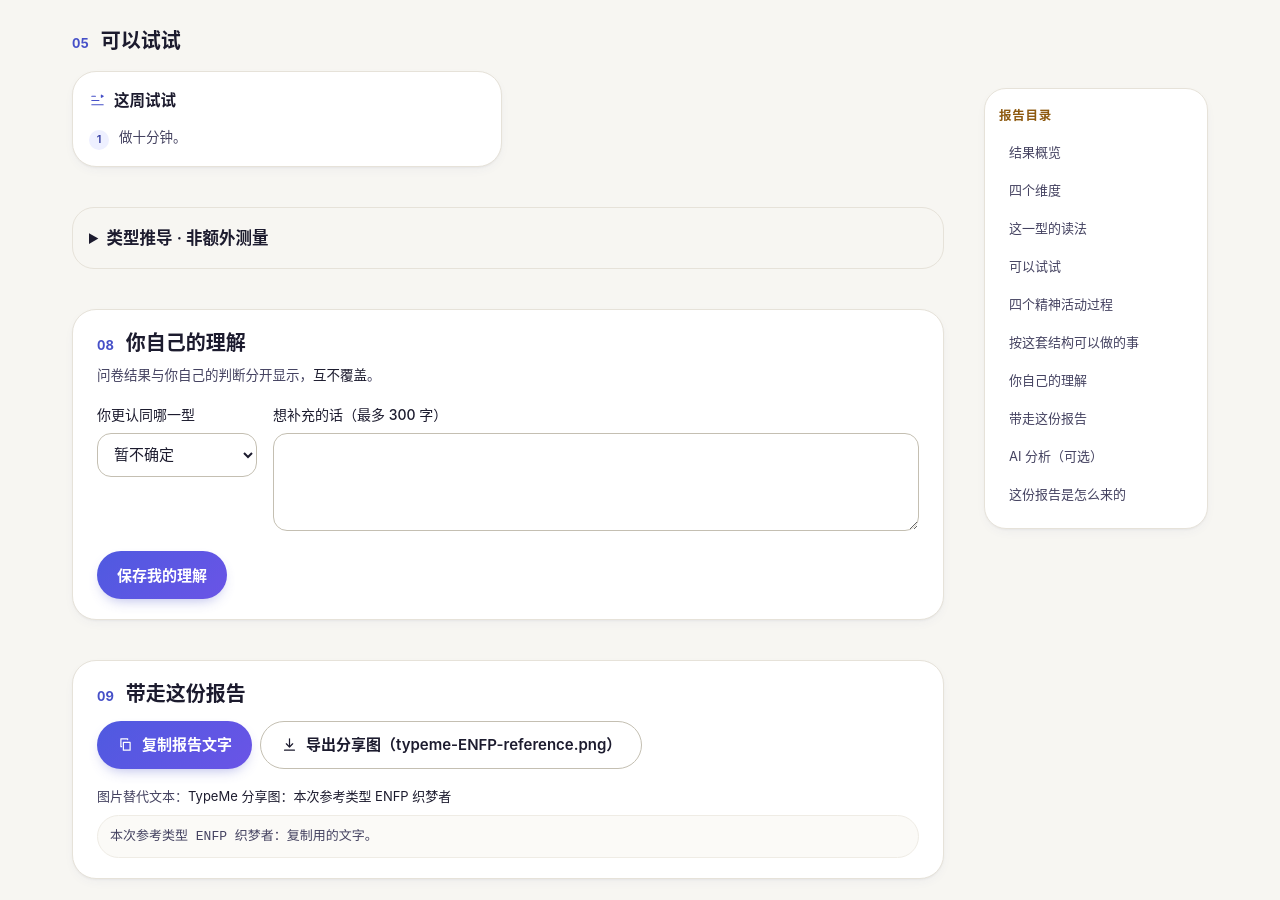
Test: 报告页：切换与离开的保存状态 › 已保存提示不带到另一份报告，离开页面清理报告状态
(page scrolled)
Type "这份报告的理解" into the text box labelled "想补充的话（最多 300 字）".
click(596, 482); type("这份报告的理解")  # box [273,433,919,531]
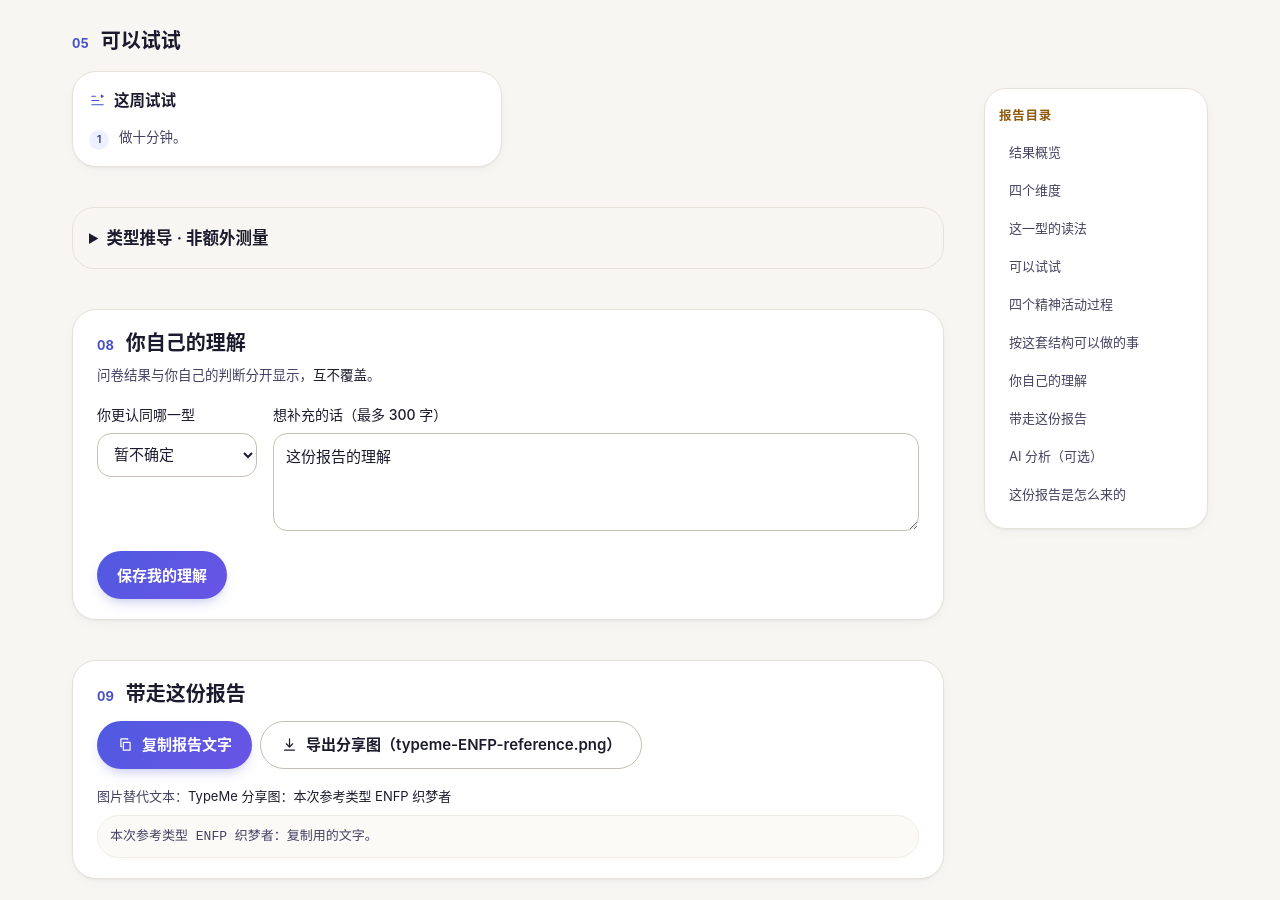
Click the button "保存我的理解".
click(162, 576)  # box [97,552,227,600]
(page scrolled)
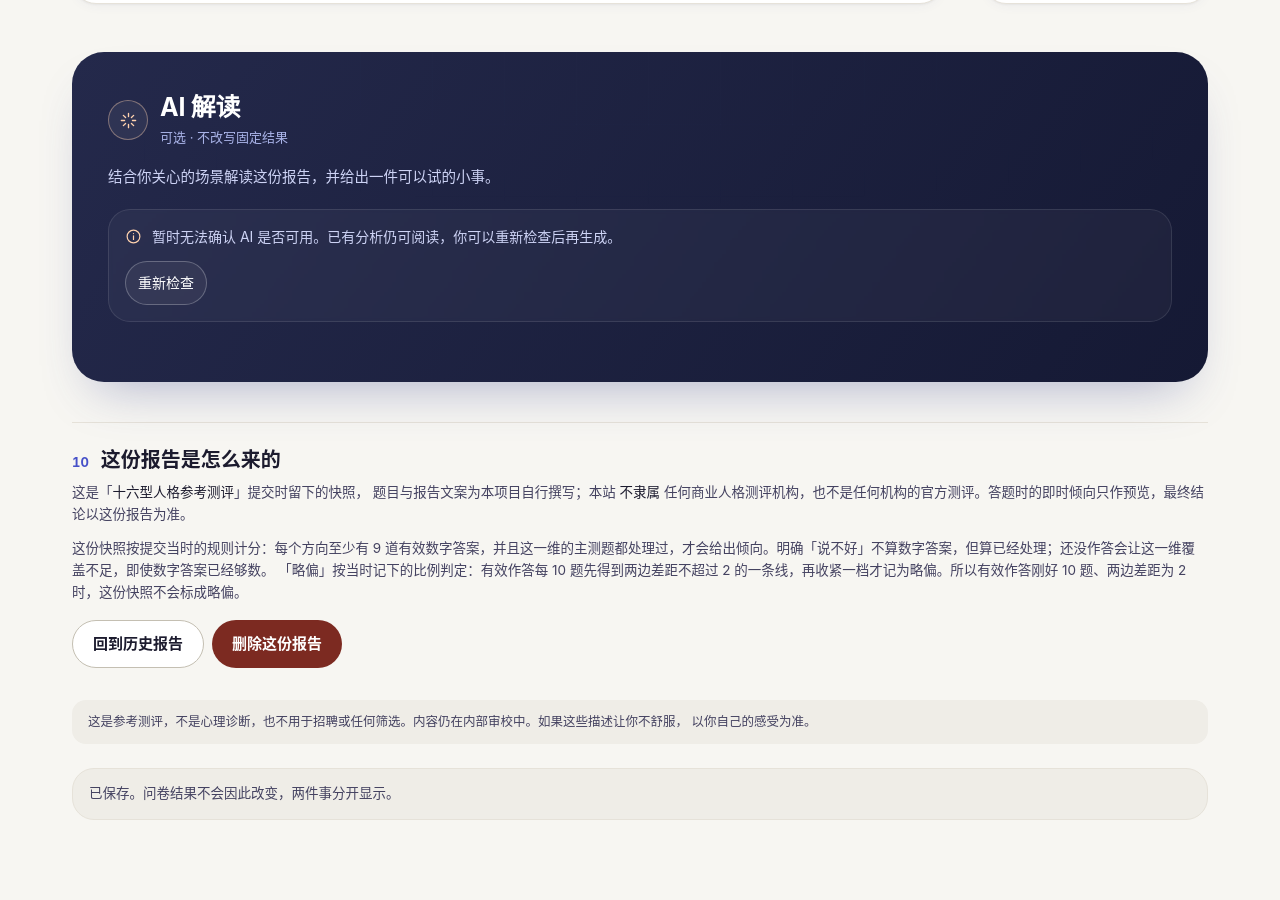
Check: the message "已保存。问卷结果不会因此改变，两件事分开显示。" is shown, box [72,768,1208,820]
